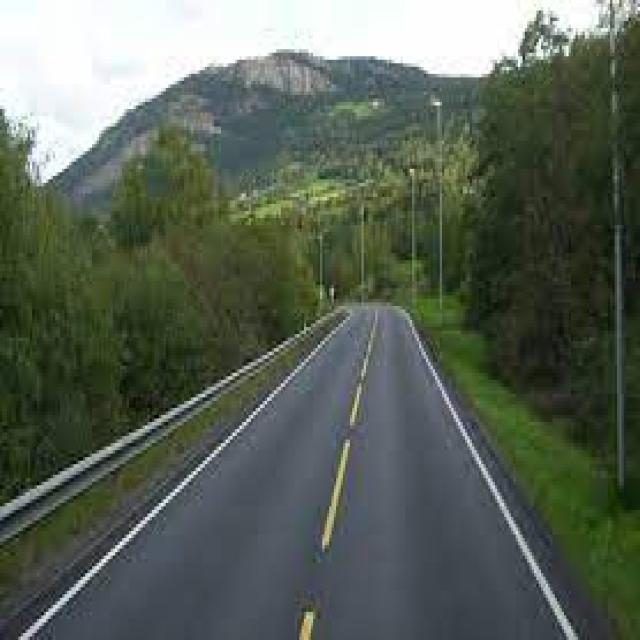empty road: (250, 335, 490, 640), (316, 299, 516, 640), (178, 430, 420, 640)
